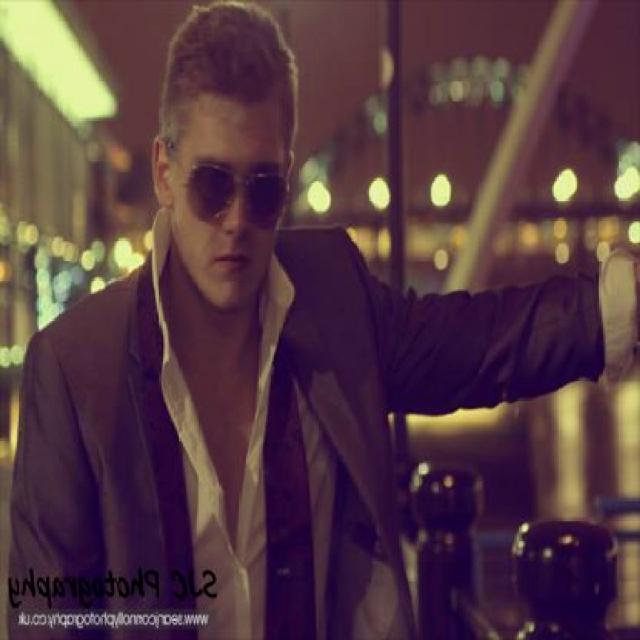face_nomask: (182, 152, 281, 279)
glasses: (160, 133, 289, 219)
head_nohelmet: (156, 18, 299, 130)
person: (0, 29, 405, 640)
